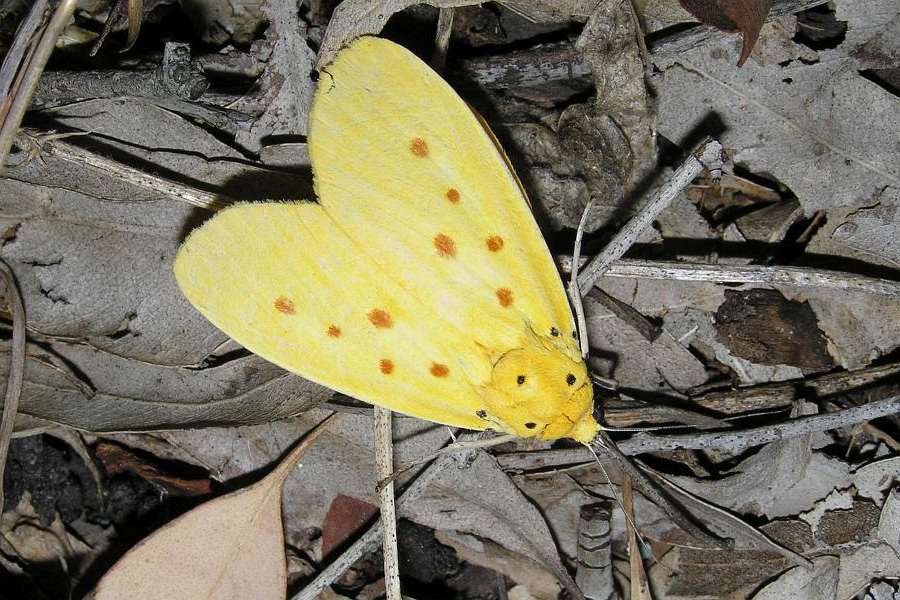Agape chloropyga: (170, 28, 783, 574)
moth: (168, 24, 781, 570)
